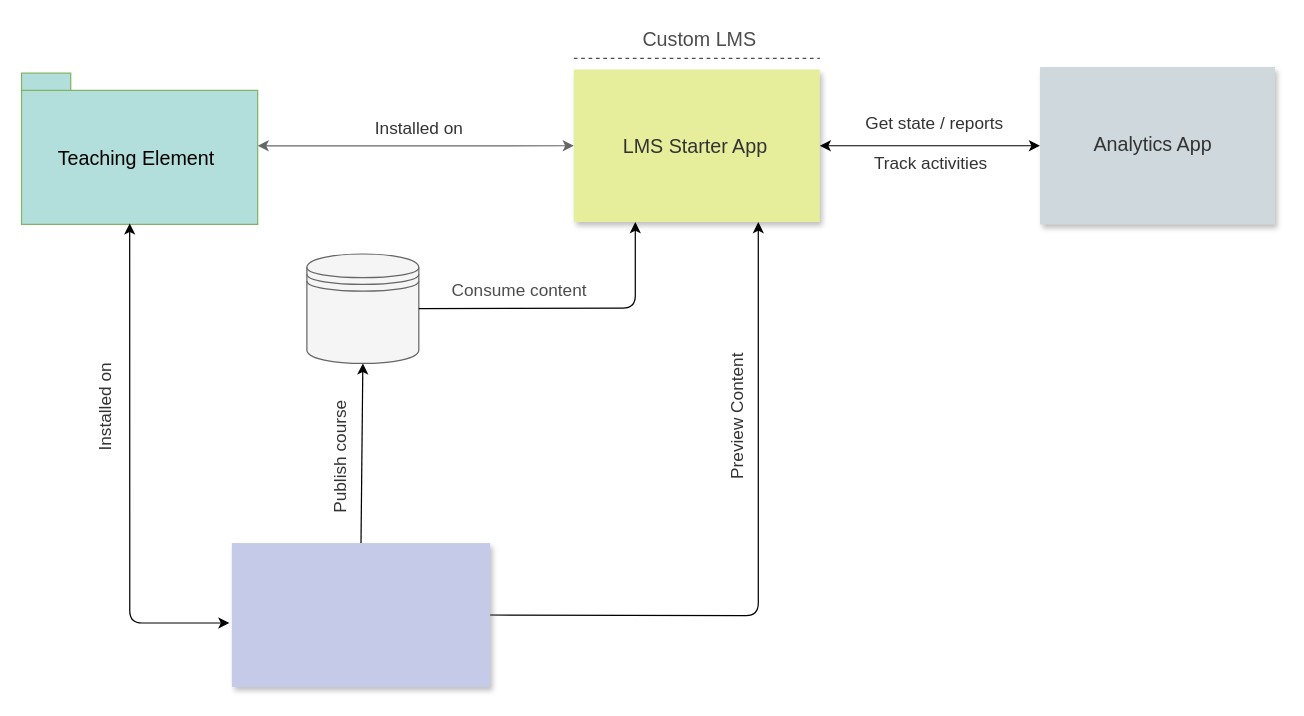
The diagram is 1304 pixels wide and 716 high, and some of its shapes have lost their labels. The shapes that lost their labels are listed below. From the top down, each one's centre as x and y in pixels, then its label:
At (362,308): "Storage (S3)".
At (361,616): "Authoring App".
